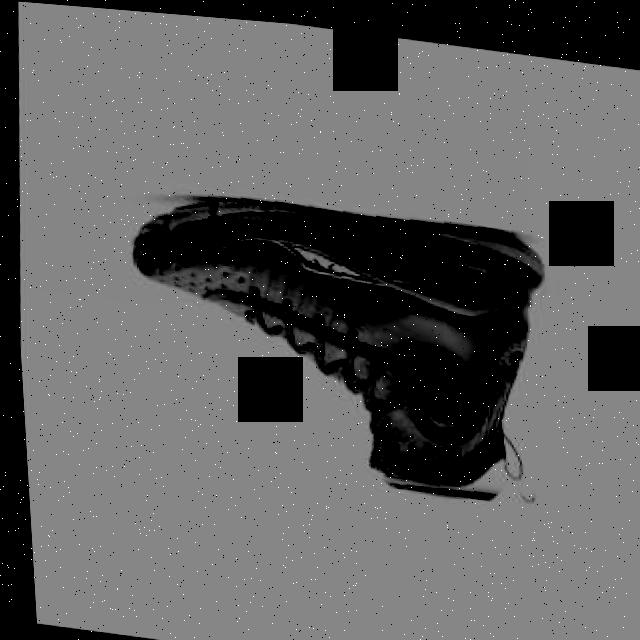shoe: (115, 180, 551, 500), (120, 191, 547, 486)
